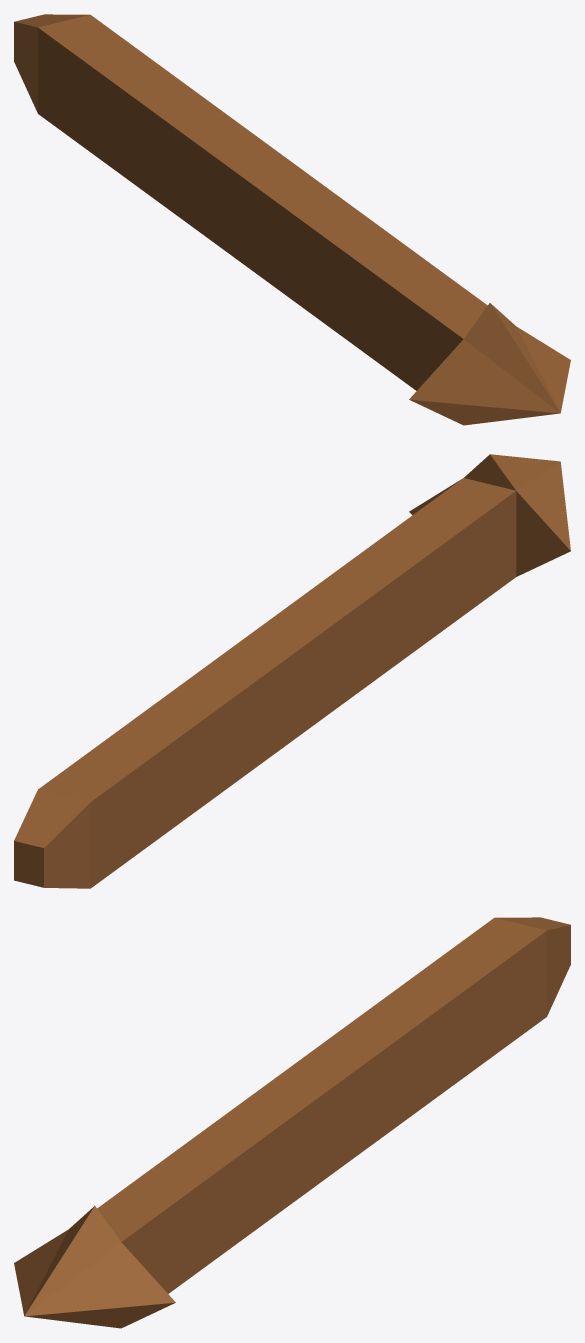
The model's file is Ammo_Ballista_Arrow.fbx.
The picture shows the model from 3 angles, top to bottom: view 1: azimuth 30°, elevation 25°; view 2: azimuth 150°, elevation 25°; view 3: azimuth 330°, elevation 25°; orthographic projection.
Parts seen in each view (by area): view 1: Ammo_Ballista_Arrow; view 2: Ammo_Ballista_Arrow; view 3: Ammo_Ballista_Arrow.
Part boxes in pixels (x1,y1,x2,y2): Ammo_Ballista_Arrow: [14, 14, 570, 425]; Ammo_Ballista_Arrow: [14, 454, 570, 888]; Ammo_Ballista_Arrow: [14, 917, 570, 1328].
Size of the model in its own units: 0.0406 by 0.0279 by 0.2306.
